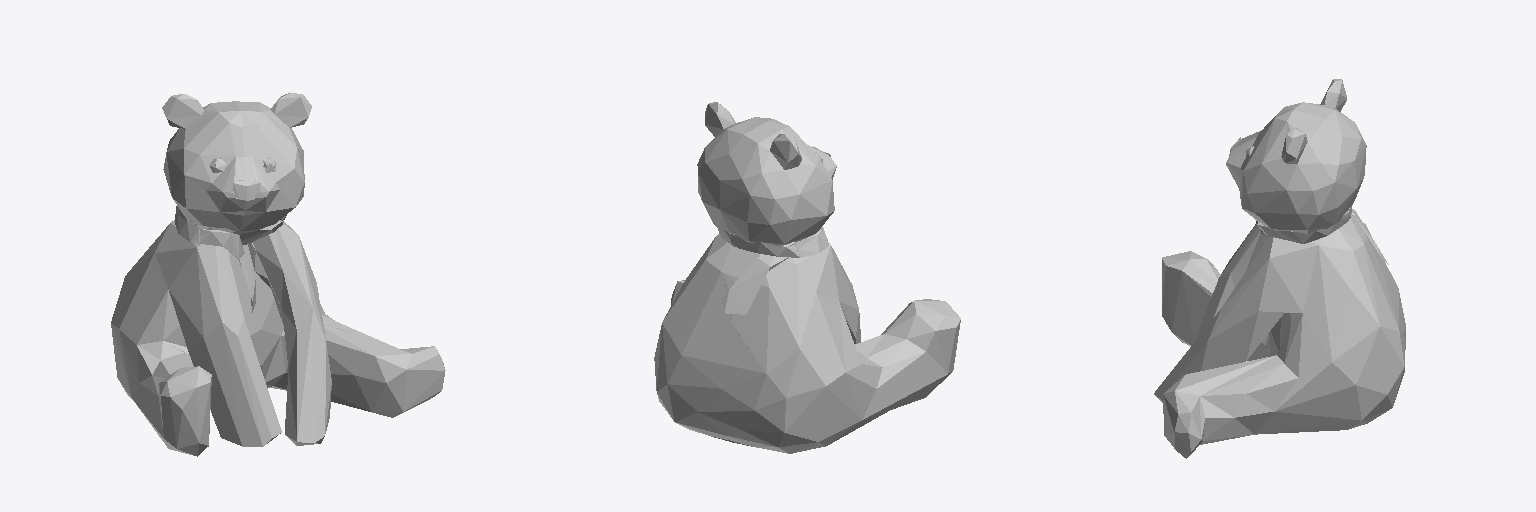
The model's file is Bear_LP.obj.
3 renders of one model, left to right at view 1: azimuth 30°, elevation 25°; view 2: azimuth 150°, elevation 25°; view 3: azimuth 270°, elevation 25°, orthographic.
Visible parts, largest first — view 1: bear; view 2: bear; view 3: bear.
Part boxes in pixels (x1,y1,x2,y2): bear: (111,92,445,456); bear: (654,102,960,453); bear: (1154,79,1405,458).
Bounding box in the file's own units: 166 × 172 × 128.